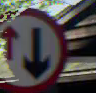Two way: (0, 7, 67, 86)
